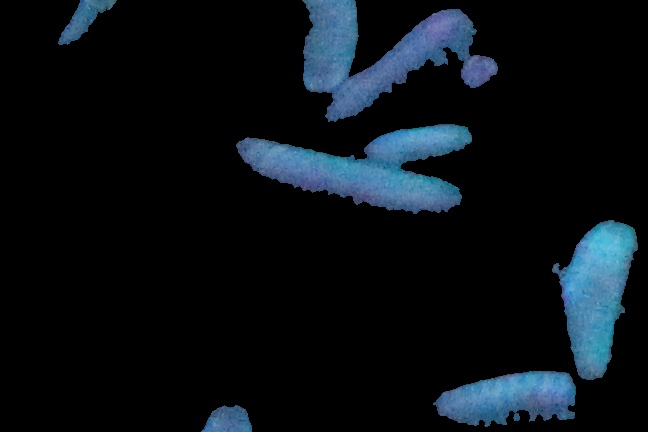larvae: (237, 135, 460, 259), (324, 11, 474, 122), (561, 219, 638, 384), (432, 372, 579, 432), (301, 1, 359, 97), (364, 124, 472, 166)
